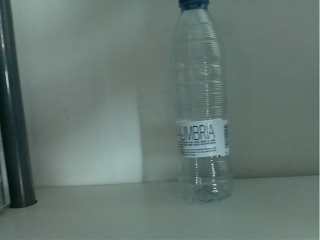botella plastico: (174, 1, 234, 203)
